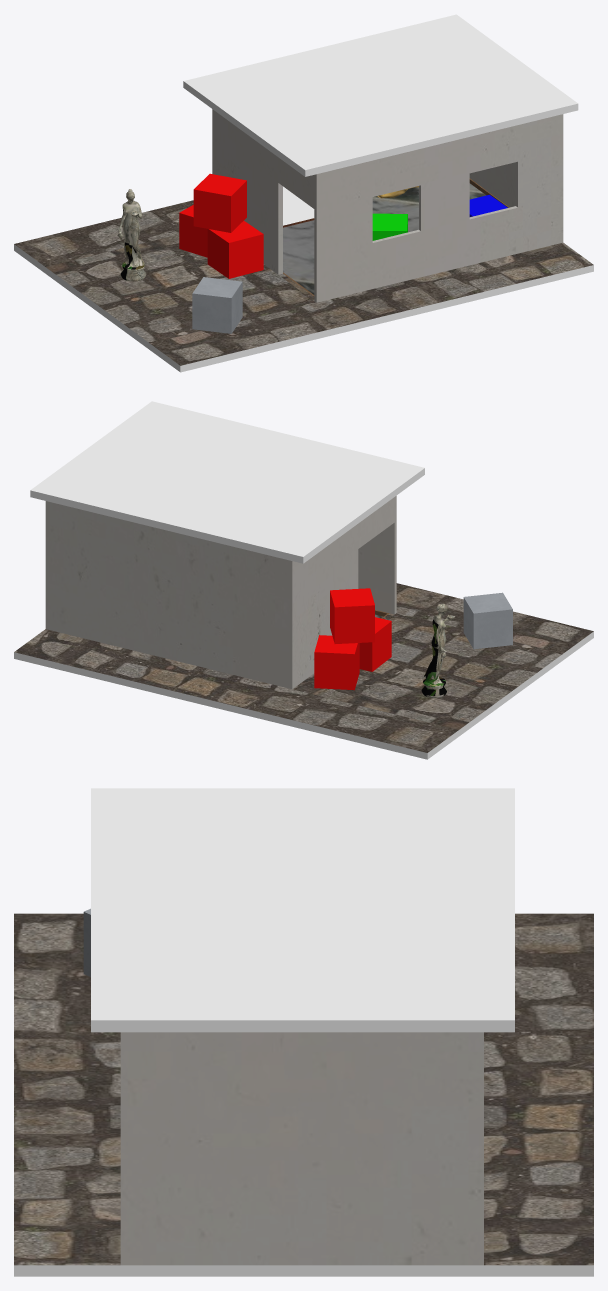
File: presentation_test.glb
3 views of the same model, one above another, from view 1: azimuth 30°, elevation 25°; view 2: azimuth 150°, elevation 25°; view 3: azimuth 270°, elevation 25° (orthographic). The views are drawn at different scales.
Visible parts, largest first — view 1: Cube, Cube.007, Cube.002, Cube.003, Cube.005, statue, Cube.001, Cube.004, Plane, Cube.006; view 2: Cube, Cube.007, Cube.005, Cube.002, Cube.001, statue, Cube.003; view 3: Cube, Cube.007.
Boxes of the visible parts, left/top/right/bottom form: Cube: left=14, top=109, right=593, bottom=372; Cube.007: left=183, top=14, right=578, bottom=176; Cube.002: left=193, top=173, right=246, bottom=232; Cube.003: left=207, top=221, right=263, bottom=278; Cube.005: left=192, top=277, right=242, bottom=333; statue: left=118, top=189, right=146, bottom=281; Cube.001: left=179, top=205, right=207, bottom=257; Cube.004: left=372, top=213, right=407, bottom=240; Plane: left=283, top=186, right=314, bottom=227; Cube.006: left=469, top=194, right=507, bottom=216; Cube: left=14, top=496, right=593, bottom=759; Cube.007: left=30, top=401, right=424, bottom=563; Cube.005: left=463, top=592, right=512, bottom=649; Cube.002: left=330, top=588, right=374, bottom=643; Cube.001: left=314, top=635, right=359, bottom=690; statue: left=421, top=603, right=454, bottom=697; Cube.003: left=359, top=617, right=391, bottom=671; Cube: left=14, top=913, right=593, bottom=1276; Cube.007: left=91, top=788, right=514, bottom=1032.
Size of the model in its own units: 40.9 by 13.99 by 28.08.
Materials: 14 (11 with a texture image).
